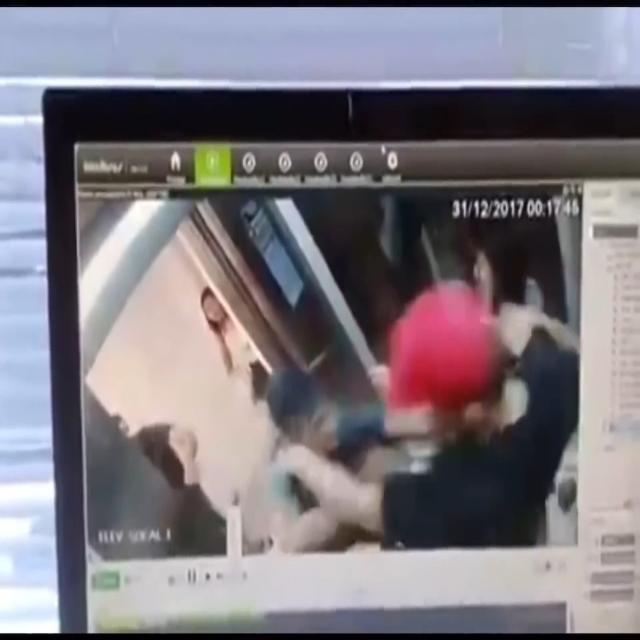fight: (258, 282, 574, 551)
